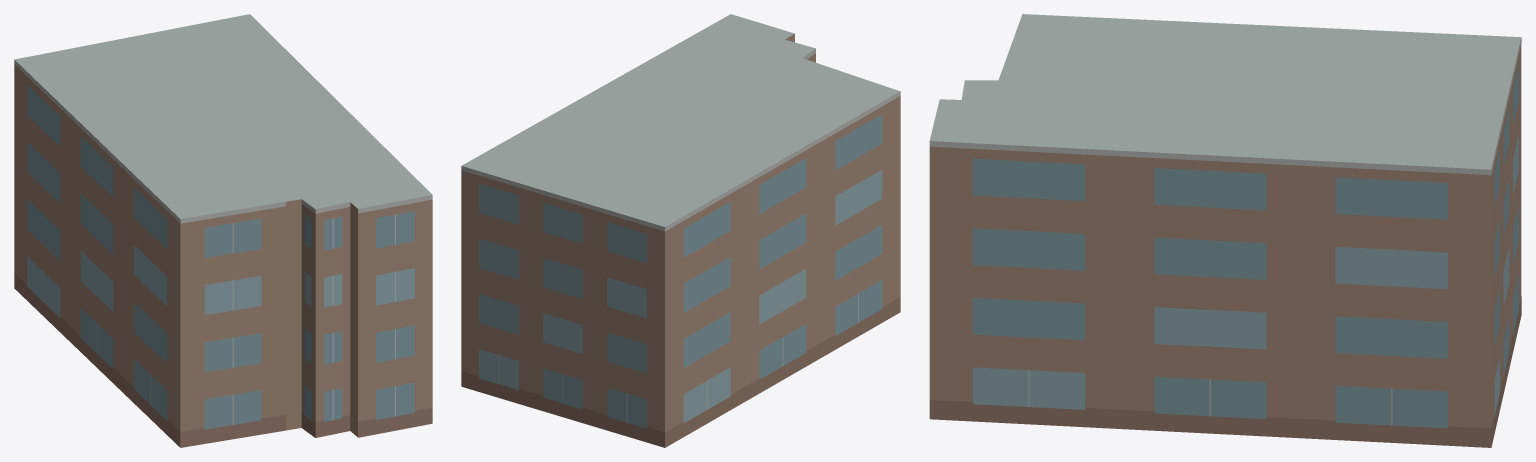
File: survey-upis-32812059.glb
The picture shows the model from 3 angles, left to right: view 1: azimuth 30°, elevation 25°; view 2: azimuth 150°, elevation 25°; view 3: azimuth 270°, elevation 25°; orthographic projection. The views are drawn at different scales.
Visible parts, largest first — view 1: survey-upis-32812059.tmp; view 2: survey-upis-32812059.tmp; view 3: survey-upis-32812059.tmp.
Boxes of the visible parts, box(x1,y1,x2,y2) form: survey-upis-32812059.tmp: box(14, 14, 432, 447); survey-upis-32812059.tmp: box(461, 14, 900, 447); survey-upis-32812059.tmp: box(929, 14, 1521, 447).
Size of the model in its own units: 14.53 by 12.1 by 23.34.
